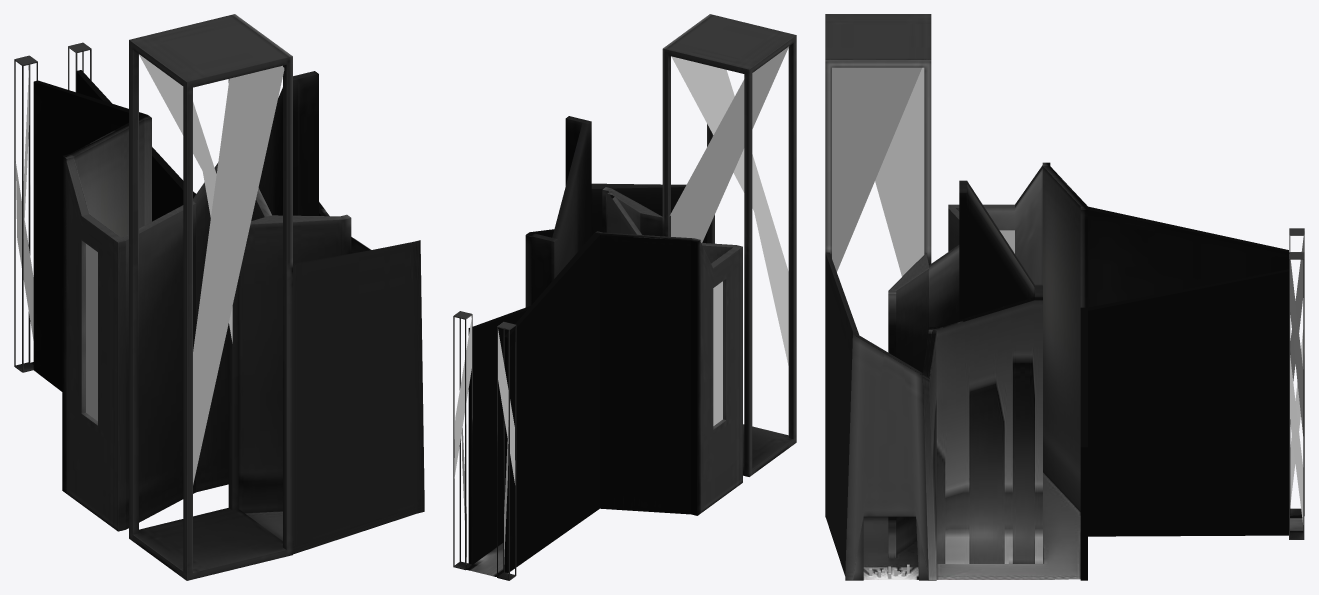
File: laberinto_loRes.glb
3 views of the same model, side by side, from view 1: azimuth 30°, elevation 25°; view 2: azimuth 150°, elevation 25°; view 3: azimuth 270°, elevation 25° (orthographic). The views are drawn at different scales.
Parts seen in each view (by area): view 1: wall6, wall9, Cube.022, wall7, wall5, Plane.002, wall4, Plane.001, Cube.002, wall2, windowLight, Plane.005 (+1 smaller); view 2: wall7, Cube.022, wall9, wall2, Plane.001, wall4, Plane.002, Cube.001, wall6, Cube.002, windowLight, wall5 (+4 smaller); view 3: wall2, wall3, wall7, wall6, Plane.002, Cube.022, Plane, wall5, wall4, Plane.001, wall9, Cube.001 (+3 smaller).
Boxes of the visible parts, x1=… form: wall6: x1=293, y1=240, x2=424, y2=554; wall9: x1=65, y1=160, x2=228, y2=531; Cube.022: x1=129, y1=14, x2=292, y2=580; wall7: x1=33, y1=80, x2=151, y2=493; wall5: x1=238, y1=188, x2=351, y2=513; Plane.002: x1=193, y1=65, x2=284, y2=484; wall4: x1=258, y1=71, x2=318, y2=215; Plane.001: x1=139, y1=54, x2=232, y2=343; Cube.002: x1=14, y1=55, x2=37, y2=372; wall2: x1=76, y1=70, x2=195, y2=221; windowLight: x1=86, y1=244, x2=97, y2=420; Plane.005: x1=16, y1=164, x2=33, y2=340; wall7: x1=504, y1=231, x2=700, y2=572; Cube.022: x1=662, y1=14, x2=796, y2=476; wall9: x1=607, y1=191, x2=742, y2=513; wall2: x1=468, y1=306, x2=530, y2=564; Plane.001: x1=670, y1=46, x2=788, y2=242; wall4: x1=531, y1=116, x2=591, y2=304; Plane.002: x1=671, y1=56, x2=788, y2=365; Cube.001: x1=453, y1=311, x2=472, y2=570; wall6: x1=591, y1=183, x2=706, y2=243; Cube.002: x1=497, y1=322, x2=516, y2=580; windowLight: x1=713, y1=281, x2=722, y2=425; wall5: x1=602, y1=187, x2=662, y2=236; wall2: x1=1080, y1=269, x2=1288, y2=580; wall3: x1=922, y1=297, x2=1042, y2=580; wall7: x1=1042, y1=162, x2=1288, y2=511; wall6: x1=825, y1=252, x2=928, y2=580; Plane.002: x1=832, y1=67, x2=921, y2=271; Cube.022: x1=825, y1=14, x2=931, y2=516; Plane: x1=863, y1=472, x2=1303, y2=579; wall5: x1=888, y1=245, x2=959, y2=557; wall4: x1=959, y1=180, x2=1042, y2=319; Plane.001: x1=875, y1=67, x2=924, y2=276; wall9: x1=948, y1=165, x2=1042, y2=284; Cube.001: x1=1289, y1=252, x2=1304, y2=539.
Size of the model in its own units: 7 by 13.32 by 12.68.
10 materials, 8 textured.
